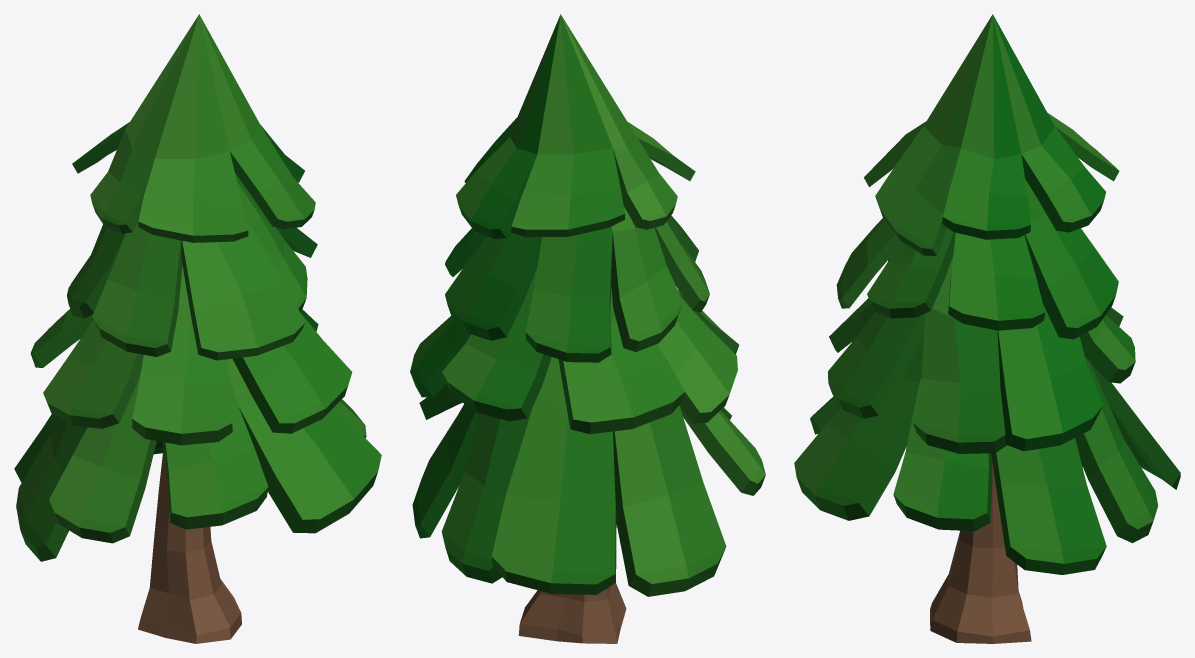
Rendered from pine.glb.
3 views of the same model, side by side, from view 1: azimuth 30°, elevation 25°; view 2: azimuth 150°, elevation 25°; view 3: azimuth 270°, elevation 25° (orthographic). The views are drawn at different scales.
Parts seen in each view (by area): view 1: 01 · Folded tier 1, 04 · Folded tier 4, 03 · Folded tier 3, 02 · Folded tier 2, 00 · Flared trunk; view 2: 01 · Folded tier 1, 04 · Folded tier 4, 03 · Folded tier 3, 02 · Folded tier 2, 00 · Flared trunk; view 3: 01 · Folded tier 1, 02 · Folded tier 2, 04 · Folded tier 4, 03 · Folded tier 3, 00 · Flared trunk.
Part boxes in pixels (box(x1,y1,x2,y2)): 01 · Folded tier 1: box(14, 358, 381, 561); 04 · Folded tier 4: box(72, 14, 315, 242); 03 · Folded tier 3: box(67, 172, 317, 360); 02 · Folded tier 2: box(30, 265, 352, 445); 00 · Flared trunk: box(138, 448, 241, 643); 01 · Folded tier 1: box(412, 357, 765, 596); 04 · Folded tier 4: box(456, 14, 695, 238); 03 · Folded tier 3: box(445, 207, 709, 362); 02 · Folded tier 2: box(410, 268, 738, 434); 00 · Flared trunk: box(518, 583, 626, 643); 01 · Folded tier 1: box(794, 334, 1180, 574); 02 · Folded tier 2: box(828, 257, 1135, 453); 04 · Folded tier 4: box(864, 14, 1119, 255); 03 · Folded tier 3: box(836, 179, 1118, 339); 00 · Flared trunk: box(930, 459, 1031, 643).
Size of the model in its own units: 2.37 by 4.35 by 2.47.
